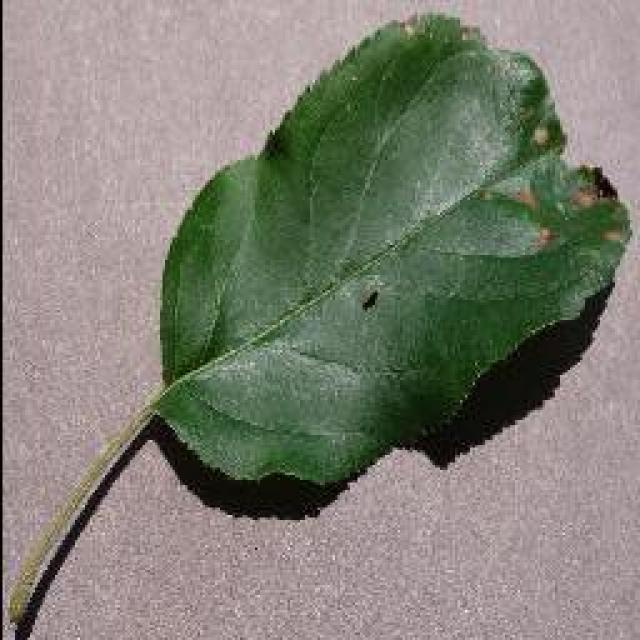Black_rot: (5, 10, 633, 638)
